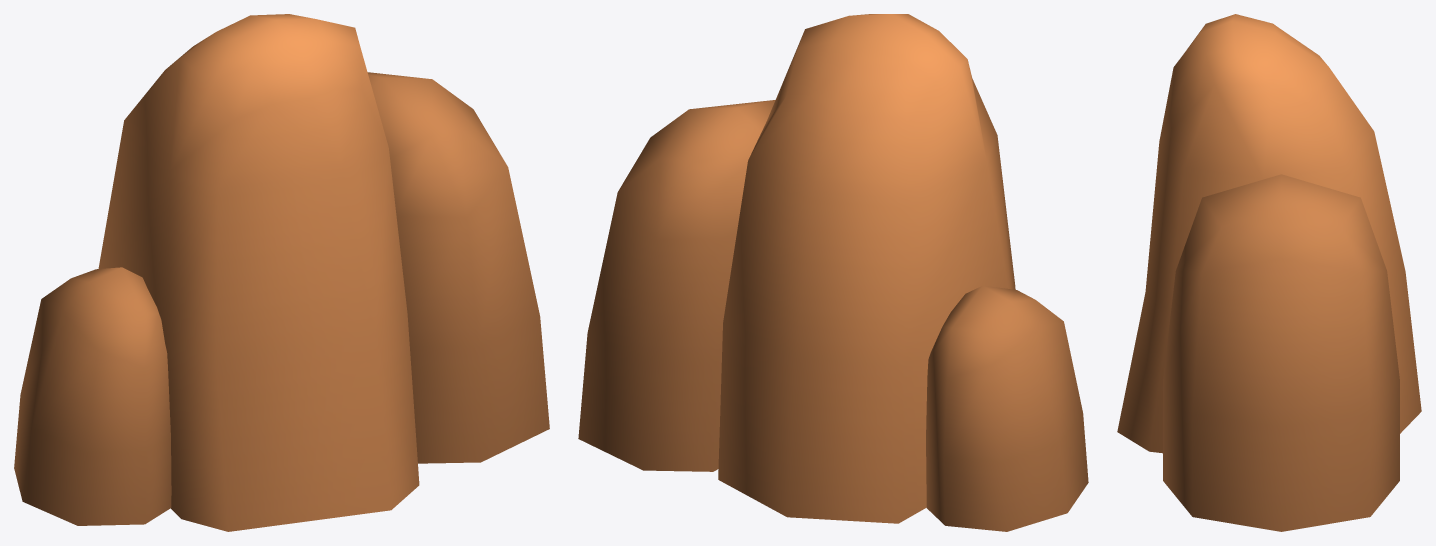
Rendered from Rock_03_C.fbx.
The picture shows the model from 3 angles, left to right: view 1: azimuth 30°, elevation 25°; view 2: azimuth 150°, elevation 25°; view 3: azimuth 270°, elevation 25°; orthographic projection. The views are drawn at different scales.
Parts seen in each view (by area): view 1: Rock_03_C; view 2: Rock_03_C; view 3: Rock_03_C.
Boxes of the visible parts, bbox=[...] form: Rock_03_C: bbox=[14, 14, 549, 531]; Rock_03_C: bbox=[578, 14, 1088, 531]; Rock_03_C: bbox=[1117, 14, 1421, 531].
Bounding box in the file's own units: 6213 × 5308 × 3752.
